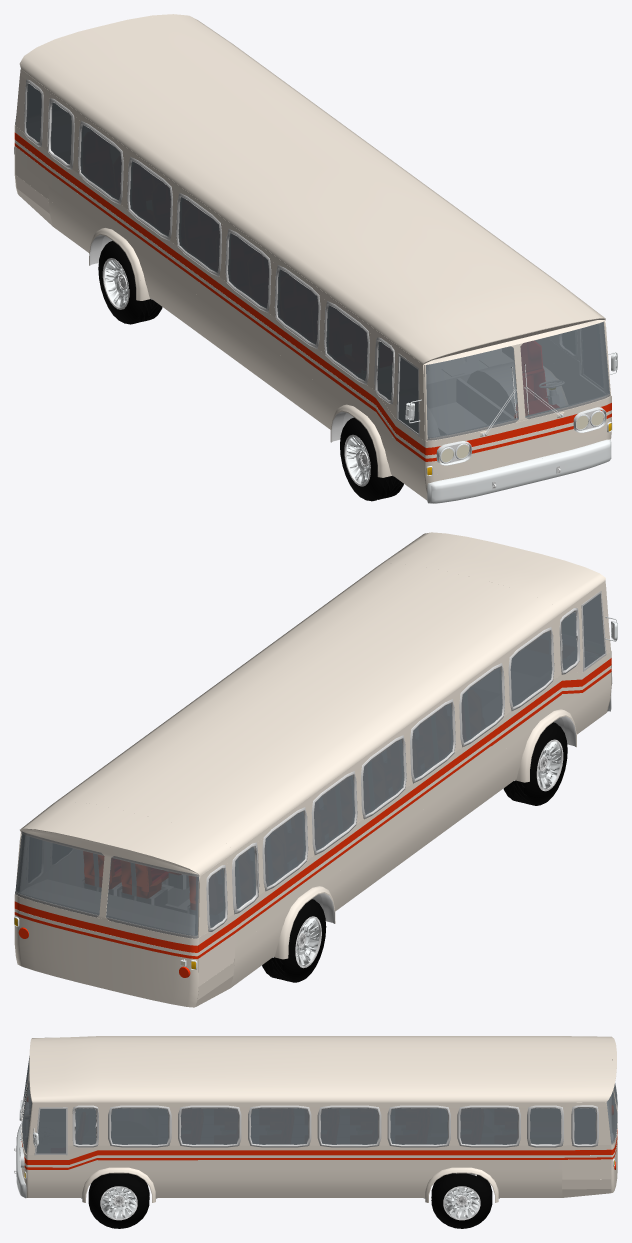
The model's file is bus.fbx.
3 views of the same model, one above another, from view 1: azimuth 30°, elevation 25°; view 2: azimuth 150°, elevation 25°; view 3: azimuth 270°, elevation 25° (orthographic). The views are drawn at different scales.
Visible parts, largest first — view 1: A-bus 000_mesh; view 2: A-bus 000_mesh; view 3: A-bus 000_mesh.
Part boxes in pixels (x1,y1,x2,y2): A-bus 000_mesh: [14, 14, 617, 503]; A-bus 000_mesh: [14, 532, 617, 1007]; A-bus 000_mesh: [14, 1036, 617, 1228].
Size of the model in its own units: 329 by 288 by 1143.
